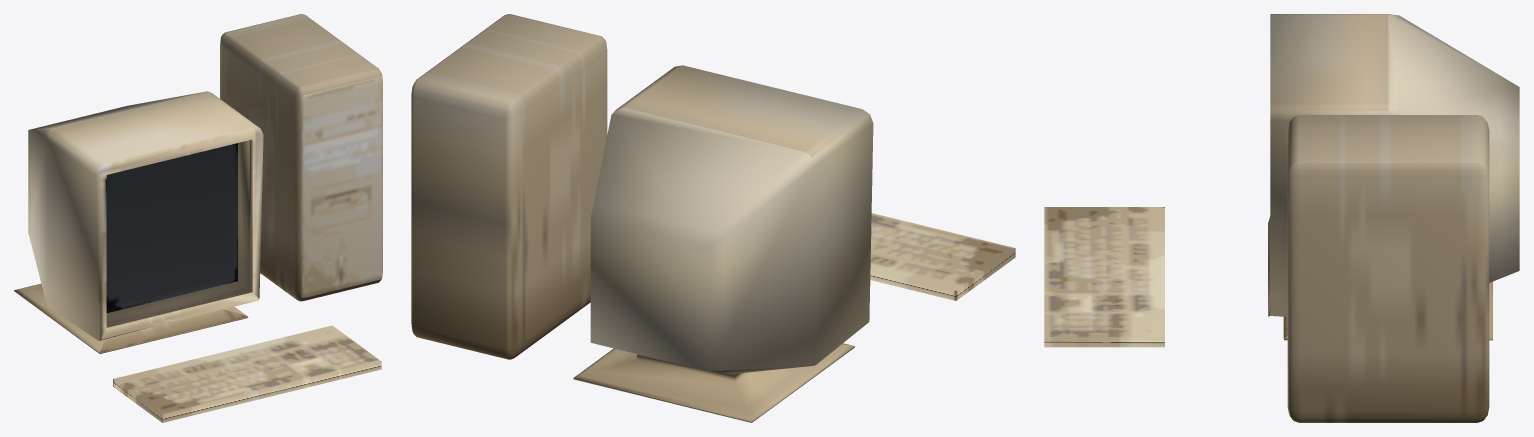
Rendered from monitor.glb.
The picture shows the model from 3 angles, left to right: view 1: azimuth 30°, elevation 25°; view 2: azimuth 150°, elevation 25°; view 3: azimuth 270°, elevation 25°; orthographic projection. The views are drawn at different scales.
Parts seen in each view (by area): view 1: Cube, Cube.002, Cube.001; view 2: Cube, Cube.002, Cube.001; view 3: Cube.002, Cube, Cube.001.
Part boxes in pixels (<box>): Cube: <box>14,91,263,353</box>; Cube.002: <box>220,14,382,301</box>; Cube.001: <box>113,325,381,422</box>; Cube: <box>573,65,873,422</box>; Cube.002: <box>411,14,607,359</box>; Cube.001: <box>870,213,1015,300</box>; Cube.002: <box>1287,115,1489,422</box>; Cube: <box>1268,14,1519,340</box>; Cube.001: <box>1044,207,1164,347</box>.
Bounding box in the file's own units: 1.99 × 1.27 × 2.08.
Materials: 1 (1 with a texture image).
